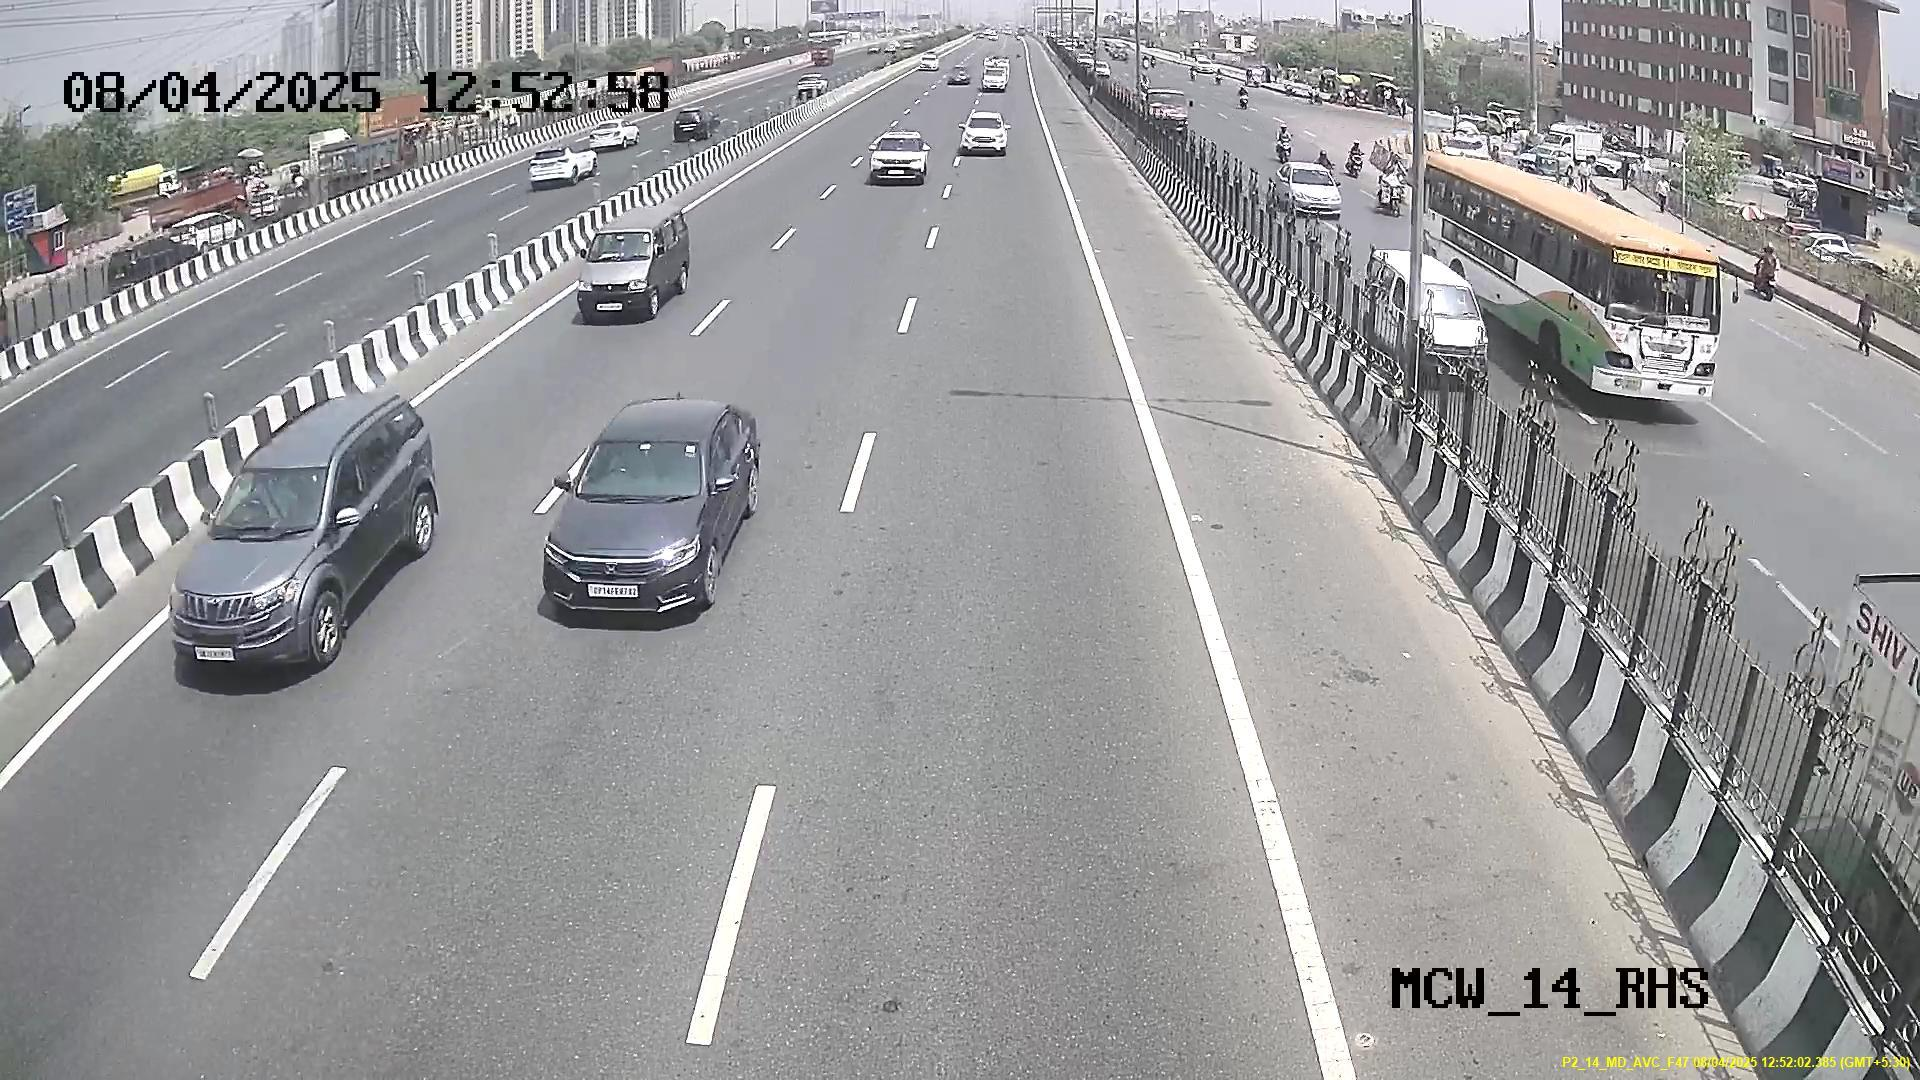car: (171, 422, 365, 675), (543, 414, 740, 622), (579, 219, 678, 319), (870, 128, 931, 195), (957, 115, 1018, 157)
